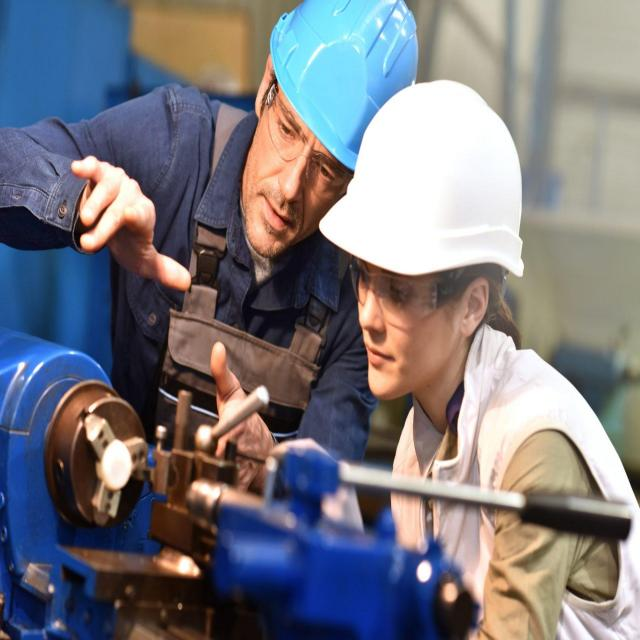Safety-Helmet: (323, 72, 527, 280), (266, 1, 419, 171)
